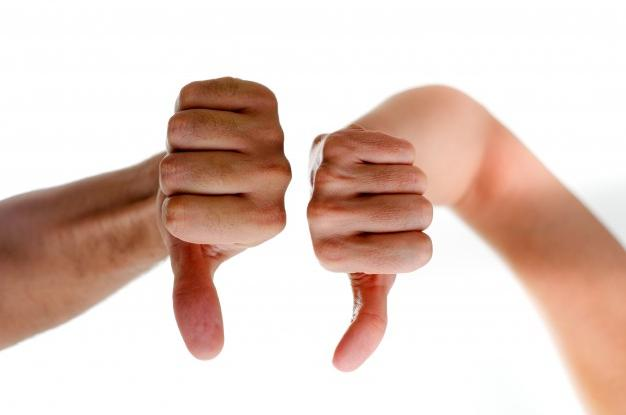thumbsdown: (157, 76, 292, 361), (306, 130, 433, 374)
